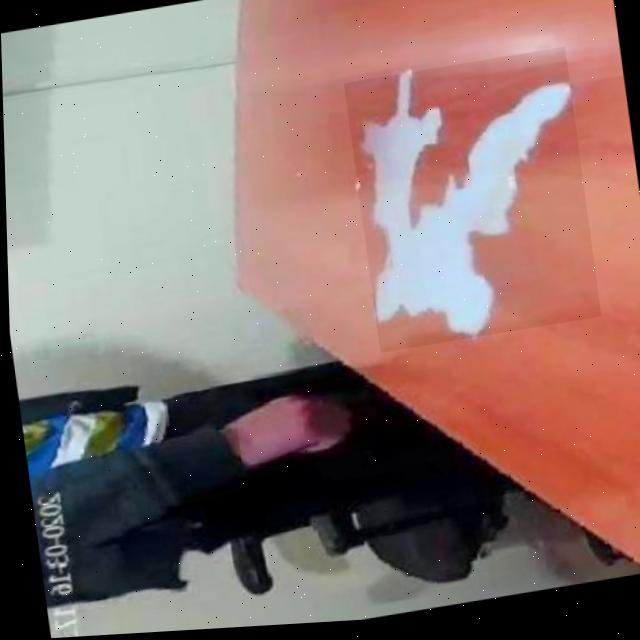spillage: (364, 76, 570, 342)
